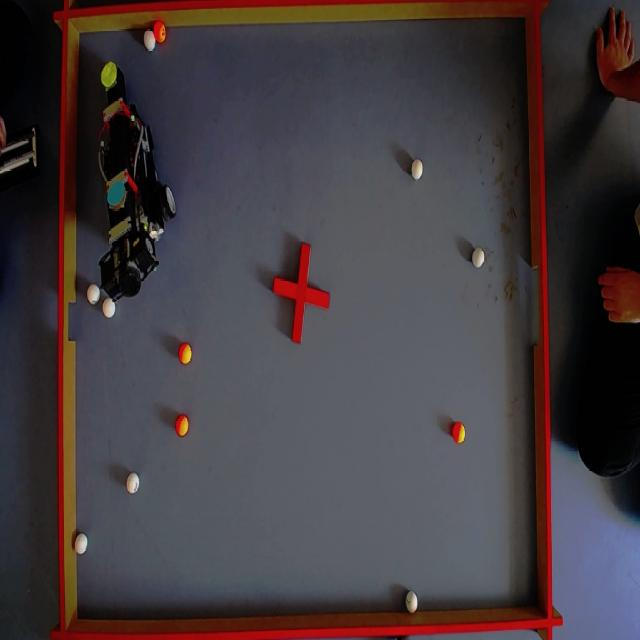orange: (452, 418, 466, 444), (152, 20, 167, 44), (181, 344, 194, 364), (178, 416, 191, 435)
robot: (87, 58, 180, 317)
robot-front: (98, 60, 118, 88)
robot-rear: (108, 182, 126, 210)
white: (404, 591, 419, 612), (87, 285, 101, 307), (76, 534, 89, 556), (411, 158, 424, 180), (127, 473, 140, 495), (144, 32, 156, 53), (103, 300, 115, 319), (474, 250, 486, 269)
